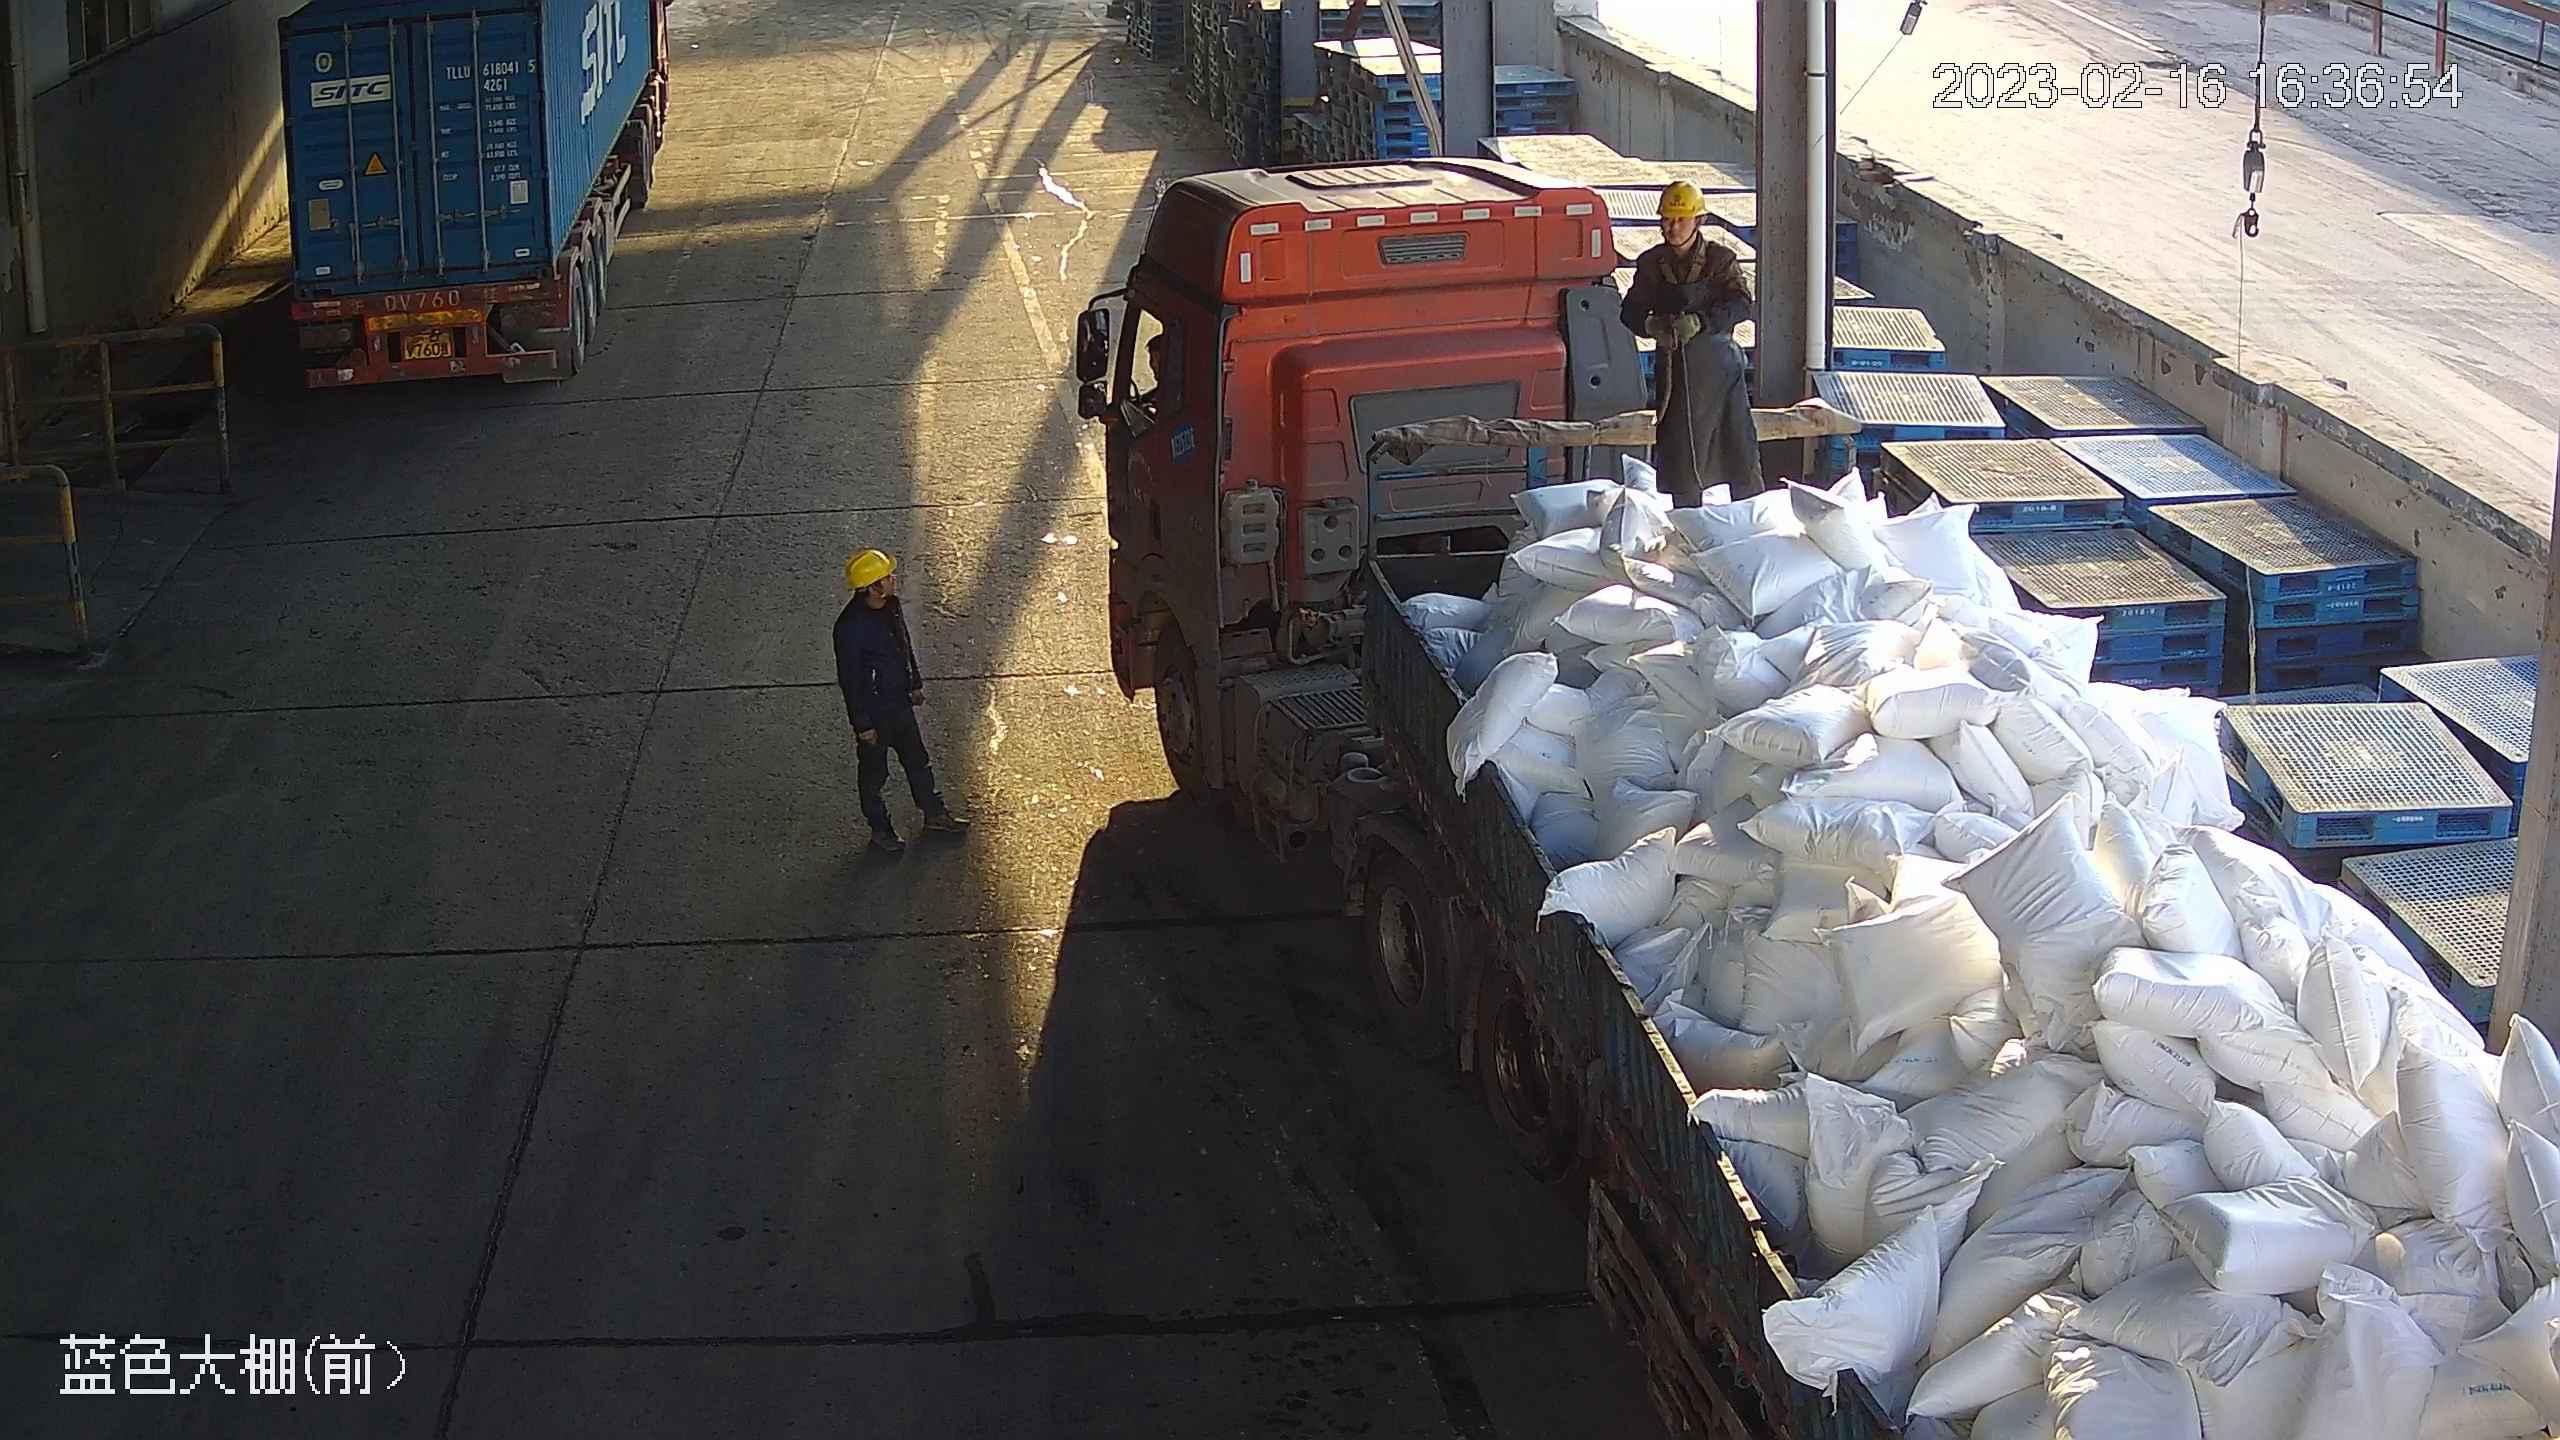belt: (1649, 236, 1723, 284)
head: (1633, 180, 1738, 278), (832, 545, 907, 645)
helmet: (843, 548, 898, 591), (1655, 178, 1709, 219)
people: (1619, 180, 1767, 506), (829, 544, 971, 854)
truck: (1093, 154, 2560, 1440), (275, 1, 671, 403)
